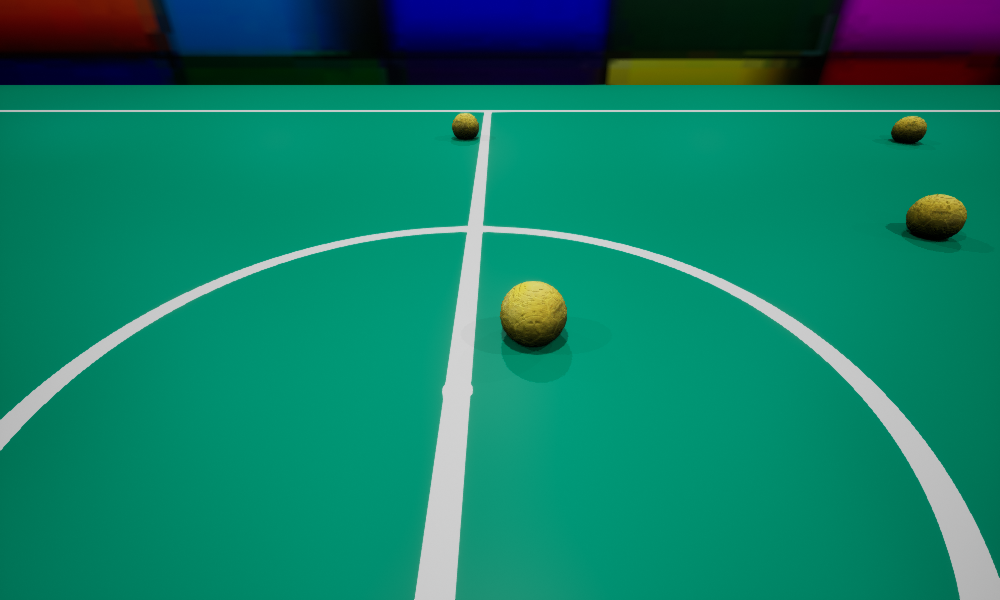b: (500, 281, 566, 346), (906, 194, 966, 239), (891, 116, 926, 143), (452, 113, 478, 139)
